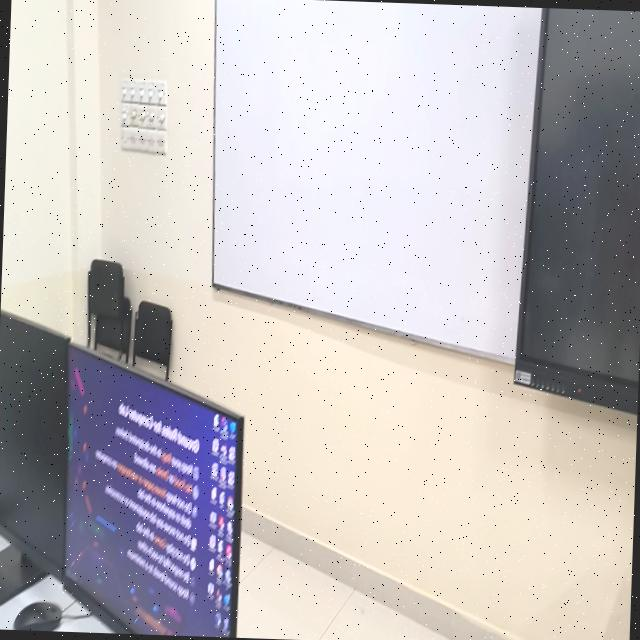Chair: (88, 259, 131, 361), (133, 301, 172, 380)
Digital board: (516, 8, 640, 414)
Monitor: (64, 345, 243, 637), (0, 310, 68, 605)
Mouse: (13, 602, 62, 631)
